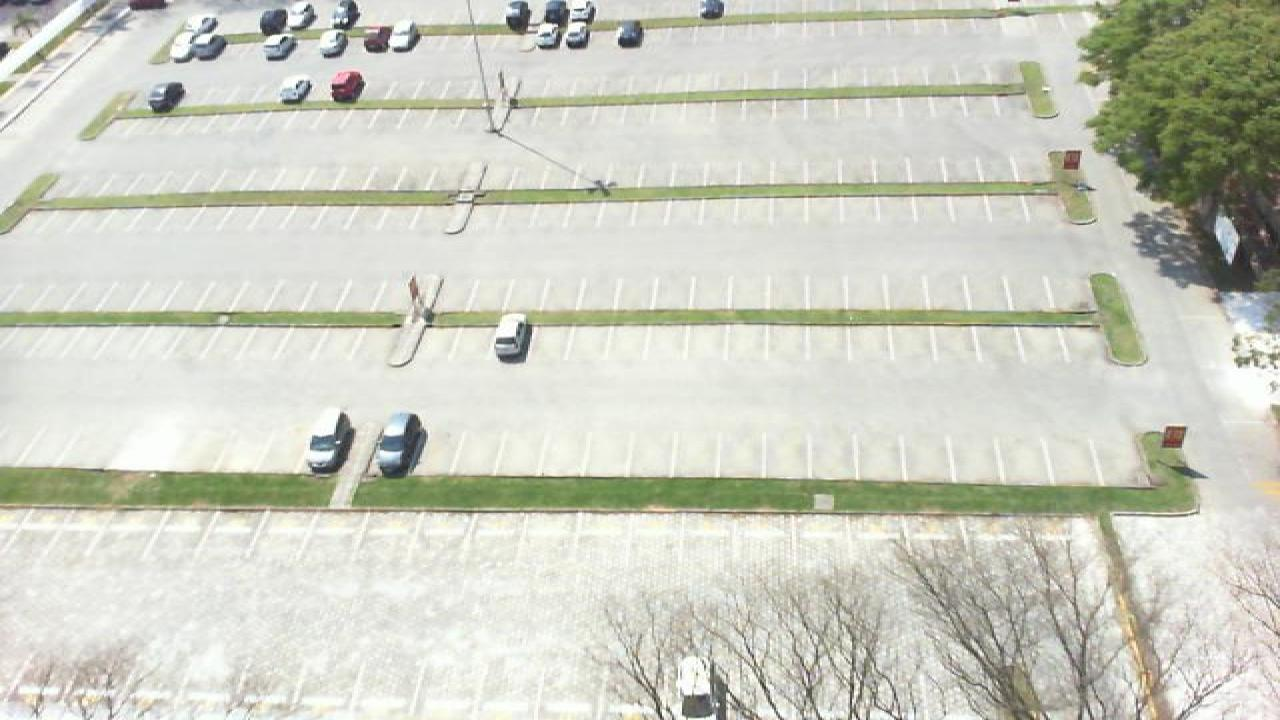Car: (376, 413, 428, 478), (676, 656, 728, 720), (304, 412, 352, 474), (492, 313, 532, 362), (148, 81, 186, 111), (330, 71, 364, 102), (388, 22, 420, 52), (532, 22, 562, 52), (168, 34, 200, 62), (262, 34, 296, 60), (278, 78, 312, 104), (258, 5, 288, 34), (358, 26, 388, 53), (616, 19, 644, 47), (194, 32, 224, 58), (316, 29, 346, 55), (332, 0, 358, 27), (290, 2, 316, 28), (562, 22, 588, 48), (506, 0, 532, 25), (538, 1, 564, 26), (188, 16, 218, 36), (568, 0, 596, 21), (696, 0, 726, 19), (126, 0, 166, 10)
